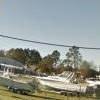Boat: (2, 58, 94, 100)
